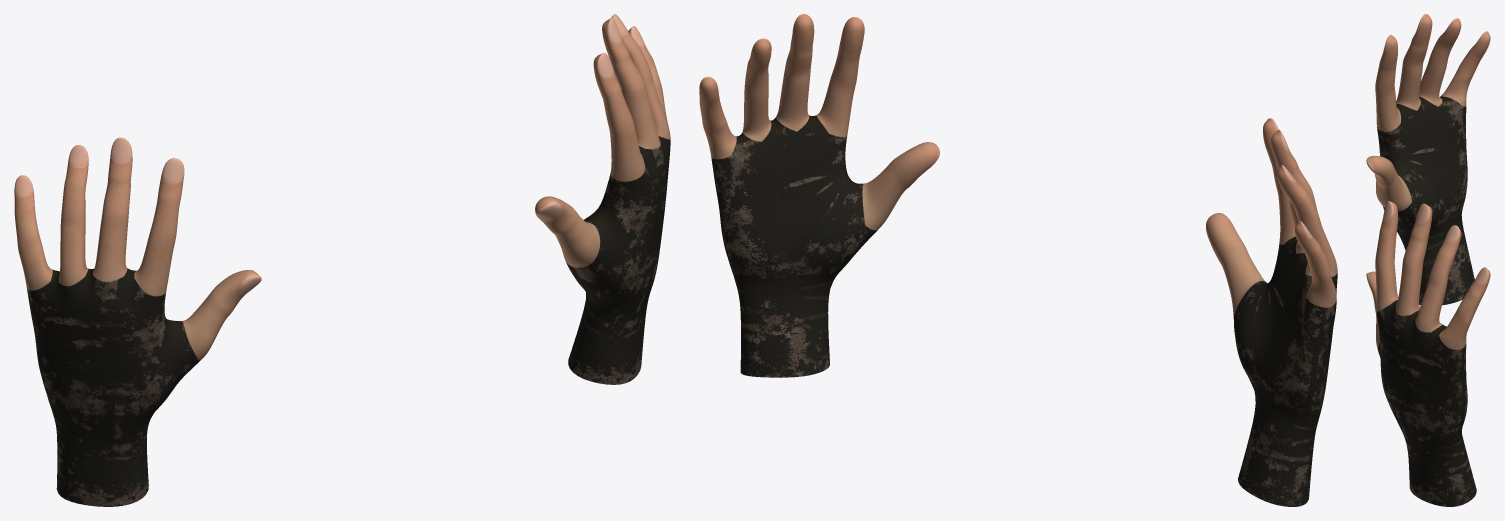
The model's file is MANOS.fbx.
3 renders of one model, left to right at view 1: azimuth 30°, elevation 25°; view 2: azimuth 150°, elevation 25°; view 3: azimuth 270°, elevation 25°, orthographic. The views are drawn at different scales.
Parts seen in each view (by area): view 1: MANO_L, MANO_R; view 2: MANO_R, MANO_L; view 3: MANO_R, MANO_L.
Boxes of the visible parts, bbox=[...] form: MANO_L: bbox=[14, 137, 261, 506]; MANO_R: bbox=[535, 14, 670, 384]; MANO_R: bbox=[699, 14, 939, 377]; MANO_L: bbox=[1206, 118, 1337, 506]; MANO_R: bbox=[1366, 201, 1490, 506]; MANO_L: bbox=[1366, 14, 1490, 305].
Bounding box in the file's own units: 195 × 105 × 41.1.
